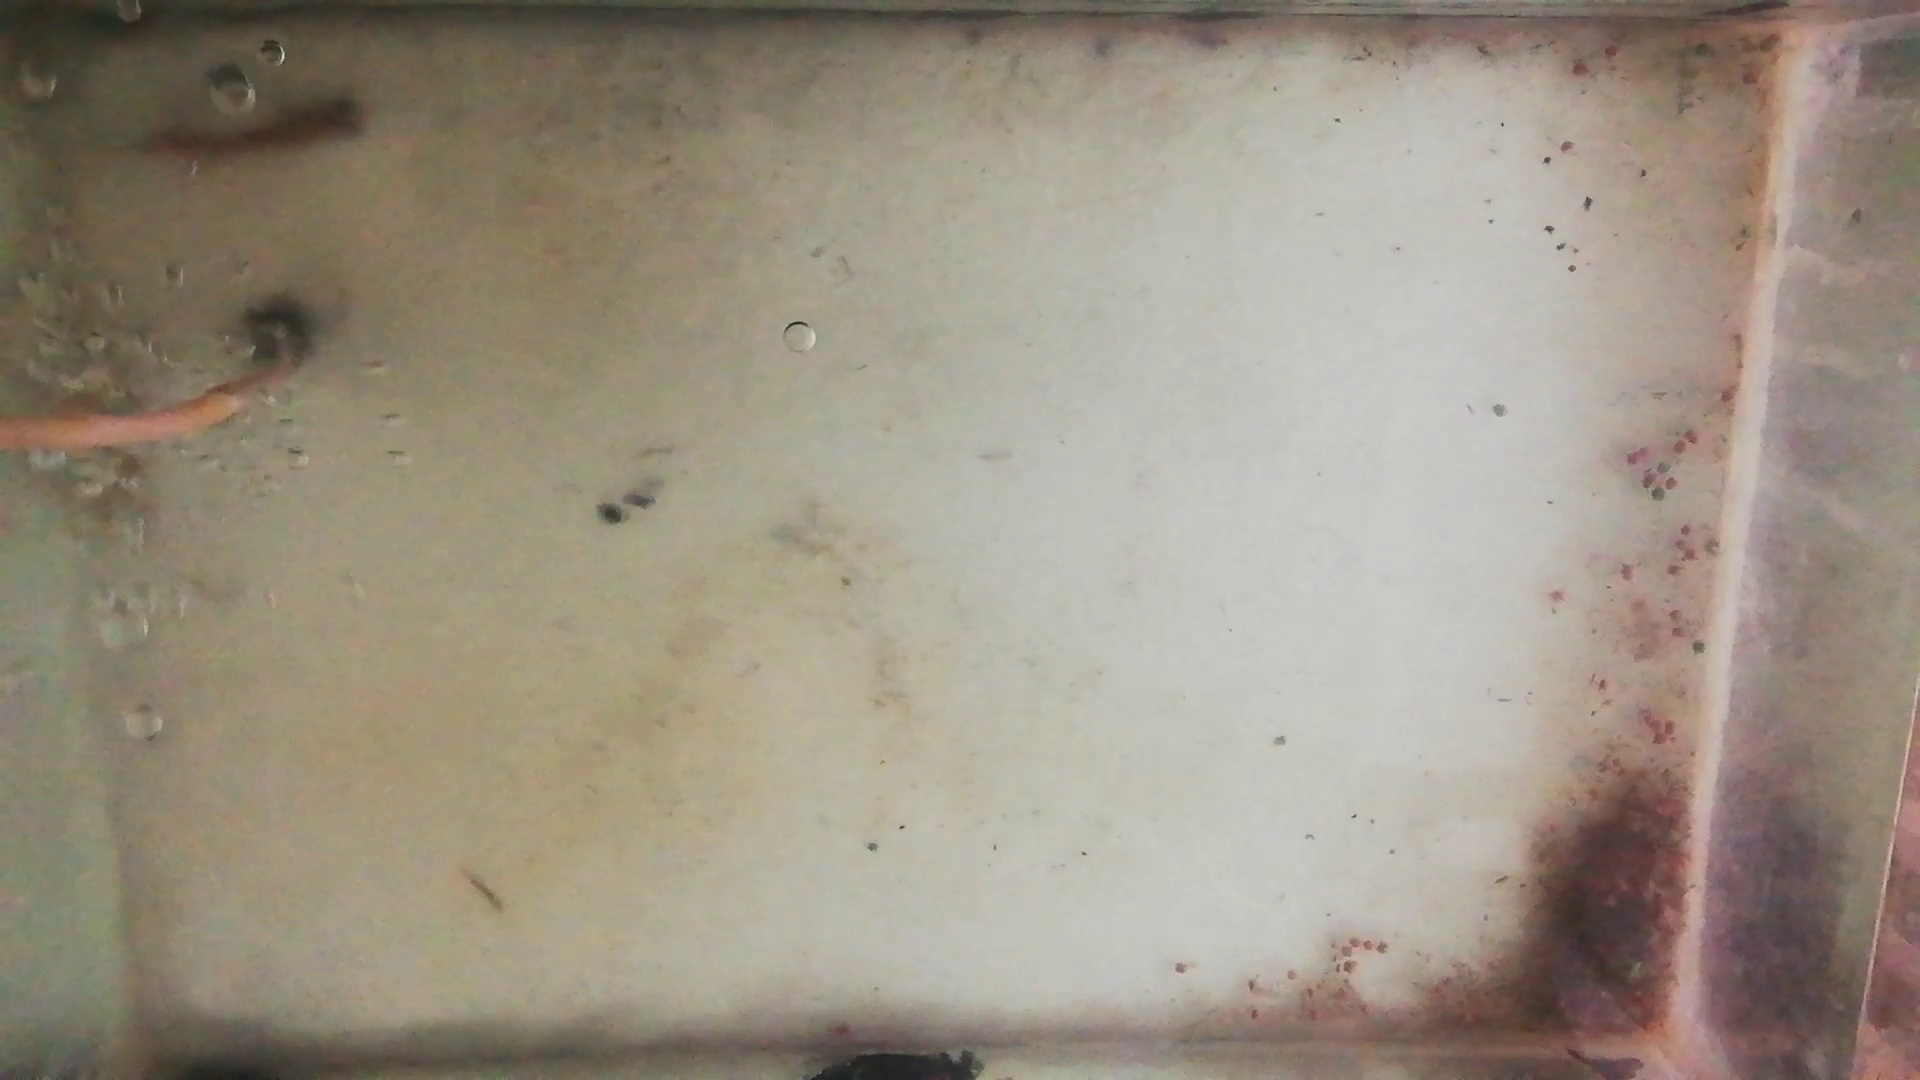fish: (138, 94, 361, 166)
